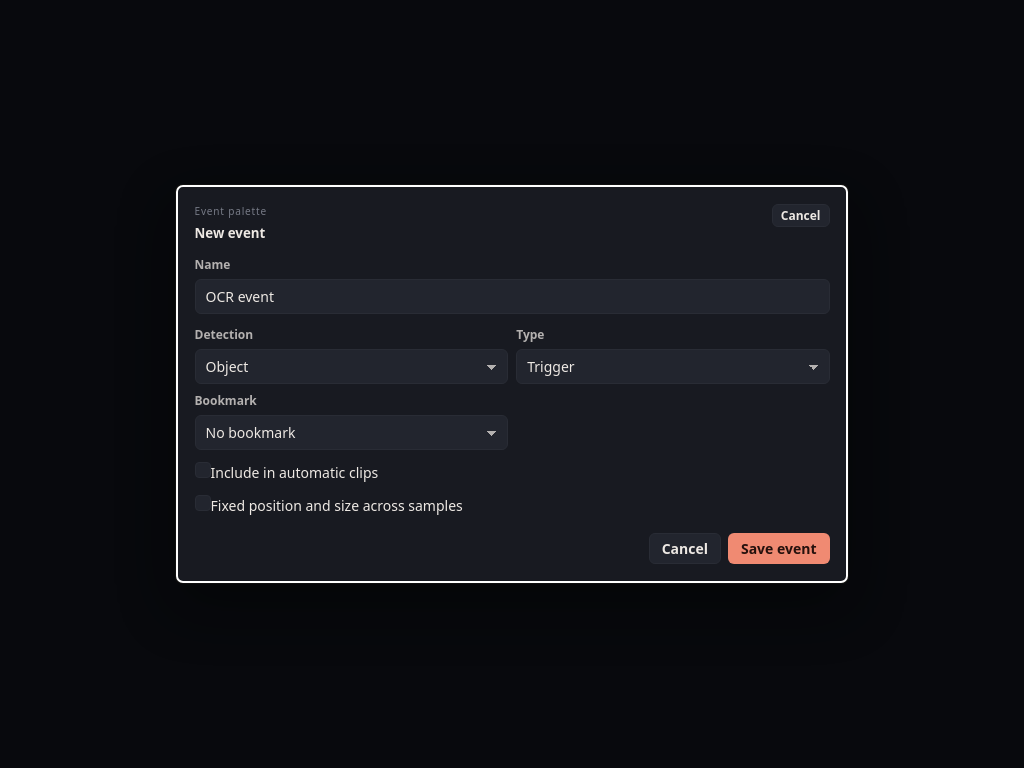
Test case: TrainingEventEditor › requires both language and template for every OCR pattern
Select "OCR" in the dropdown labelled "Detection" at coordinates (351, 366), box [194,349,508,384]
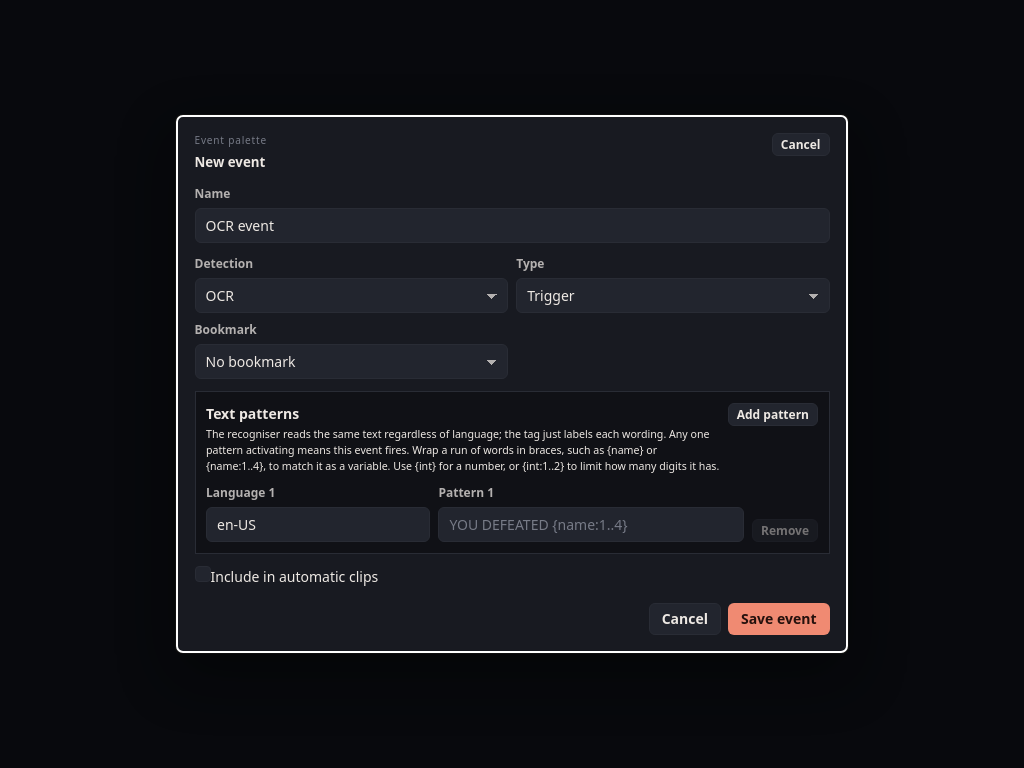
Click the button "Save event" at coordinates (779, 619), box [728,603,830,635]
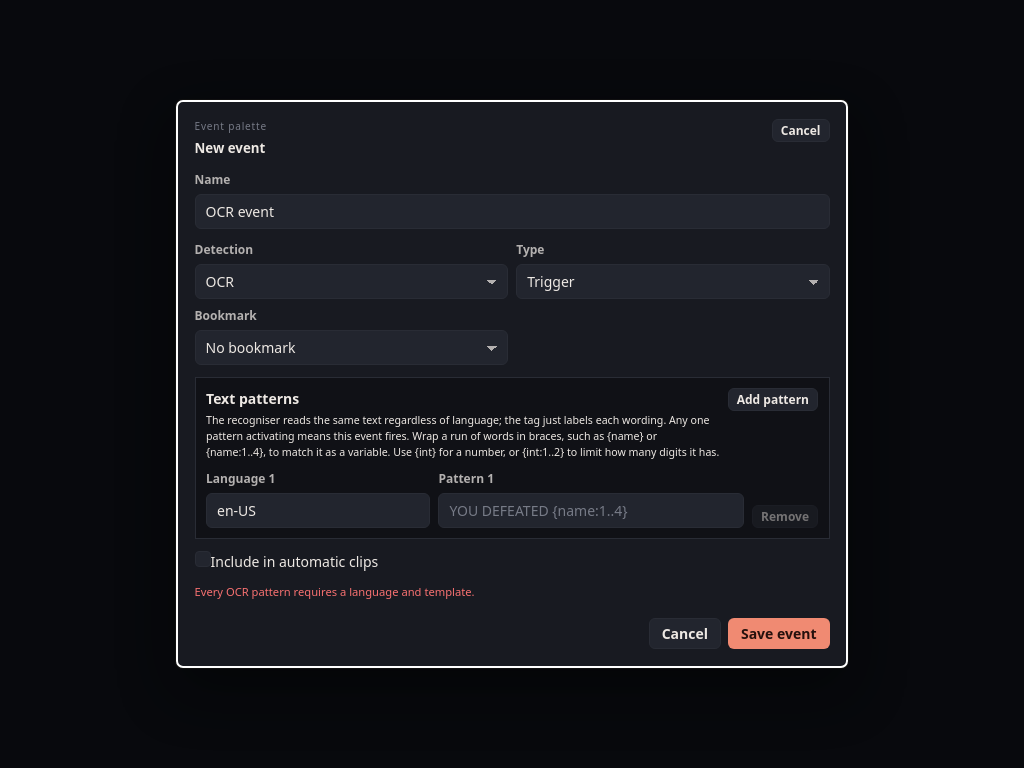
Check: the message shows "requires a language and template", box [194,584,475,599]
